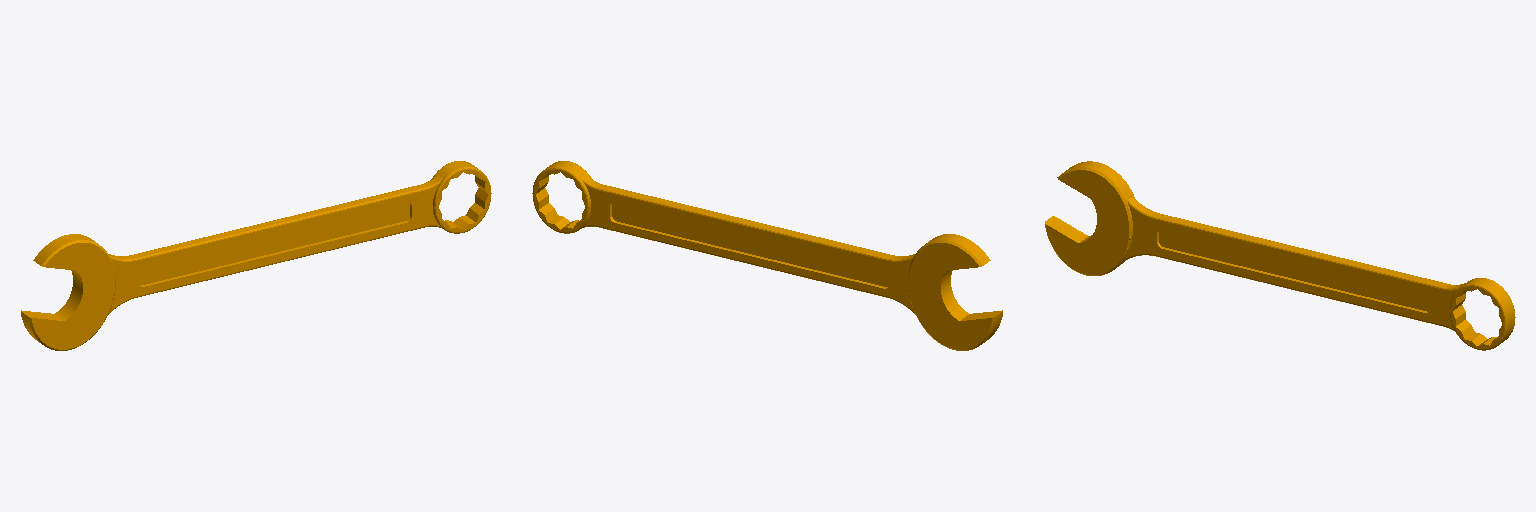
robot.urdf — wrench_1_L0.62_T0.67:
<?xml version="1.0" encoding="utf-8"?>
<robot name="wrench_1_L0.62_T0.67">
  <link name="wrench_1_L0.62_T0.67Link">
    <contact>
      <lateral_friction value="1"/>
    </contact>
    <inertial>
      <origin rpy="0 0 0" xyz="0 0 0"/>
      <mass value="0.0"/>
      <inertia ixx="0" ixy="0" ixz="0" iyy="0" iyz="0" izz="0"/>
    </inertial>
    <visual>
      <origin rpy="0 0 0" xyz="0 0 0"/>
      <geometry>
        <mesh filename="generated_stl/wrench/wrench_1/wrench_1_L0.62_T0.67/wrench_1_L0.62_T0.67.stl" scale="0.01 0.01 0.01"/>
      </geometry>
    </visual>
    <collision>
      <origin rpy="0 0 0" xyz="0 0 0"/>
      <geometry>
        <mesh filename="generated_stl/wrench/wrench_1/wrench_1_L0.62_T0.67/wrench_1_L0.62_T0.67.stl" scale="0.01 0.01 0.01"/>
      </geometry>
    </collision>
  </link>
</robot>

--- Render facts (derived) ---
3 views of the same robot in one strip: view 1: azimuth 30°, elevation 25°; view 2: azimuth 150°, elevation 25°; view 3: azimuth 330°, elevation 25° (orthographic).
Robot: wrench_1_L0.62_T0.67 — 1 links, 0 joints (none); root link wrench_1_L0.62_T0.67Link; default pose: all joints at 0.
Links seen in each view (by area): view 1: wrench_1_L0.62_T0.67Link; view 2: wrench_1_L0.62_T0.67Link; view 3: wrench_1_L0.62_T0.67Link.
Link boxes in pixels (x1,y1,x2,y2): wrench_1_L0.62_T0.67Link: [21, 161, 491, 350]; wrench_1_L0.62_T0.67Link: [532, 161, 1002, 350]; wrench_1_L0.62_T0.67Link: [1045, 161, 1515, 350].
Bounding box of the posed robot: 0.0497 × 0.0019 × 0.0111 m (x, y, z).
Meshes: 1 distinct files referenced, 1 mesh visuals loaded (1 binary STL).